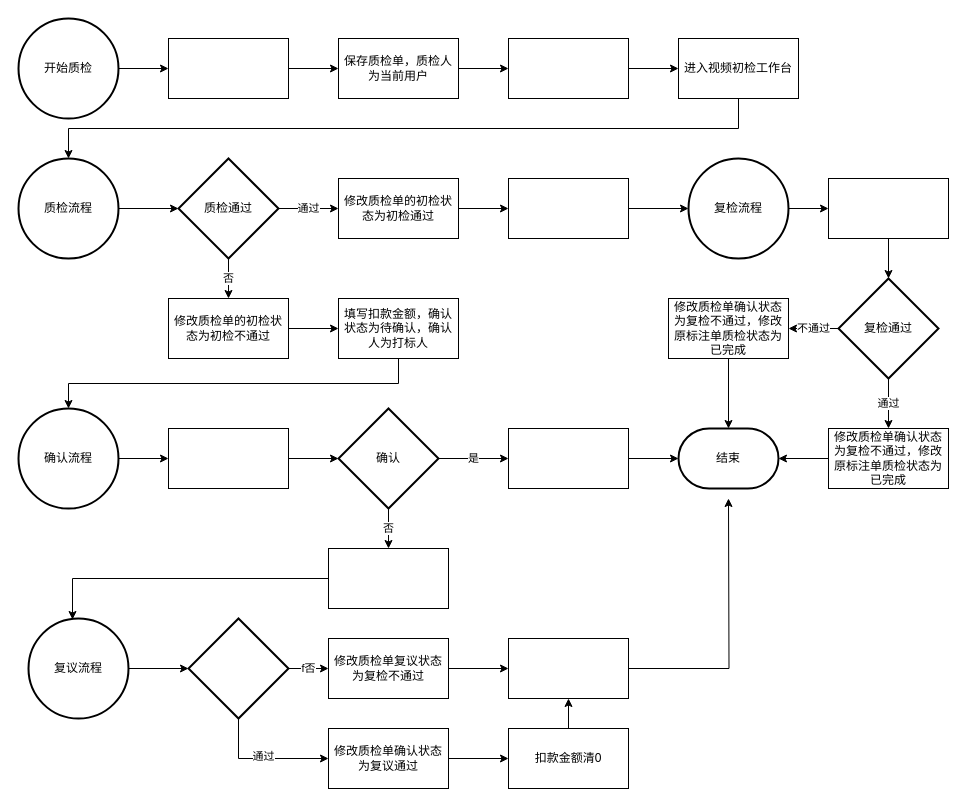
The diagram is 966 pixels wide and 806 high, and some of its shapes have lost their labels. The shapes that lost their labels are listed below. From the top down, each one's box as (x1, y1, x2, y2) in pixels, then its label:
(168, 38, 288, 98): 修改原标注单质检状态为质检中
(508, 38, 628, 98): 保存质检单单视频初检工作台
(508, 178, 628, 238): 修改质检单的复检状态为待复检,保存质检单到视频复检工作台
(828, 178, 948, 238): 修改质检单复检状态为复检中，复检人为当前登录用户
(168, 428, 288, 488): 检查确认人是否为当前用户
(508, 428, 628, 488): 修改质检单确认状态为认可，修改原标注单为质检完成
(328, 548, 448, 608): 修改质检单确认状态为不认可，修改质检单确认状态为不认可，复议状态为待复议
(187, 617, 289, 719): 复议通过
(508, 638, 628, 698): 修改原标注单质检状态为已完成
